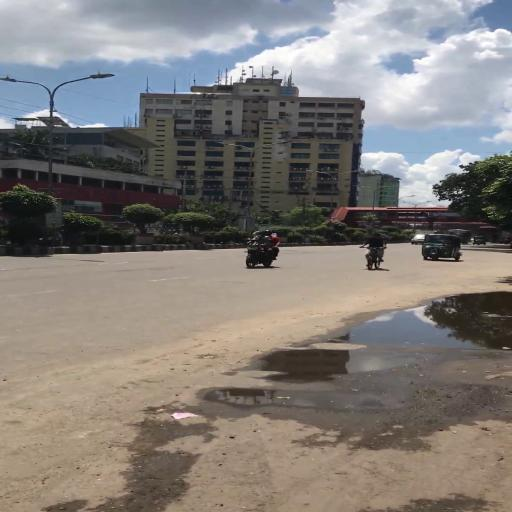bicycle: (360, 243, 386, 271)
bus: (449, 229, 472, 245)
motorbike: (244, 242, 280, 270)
three wheelers (CNG): (423, 235, 464, 263), (474, 237, 487, 247)
